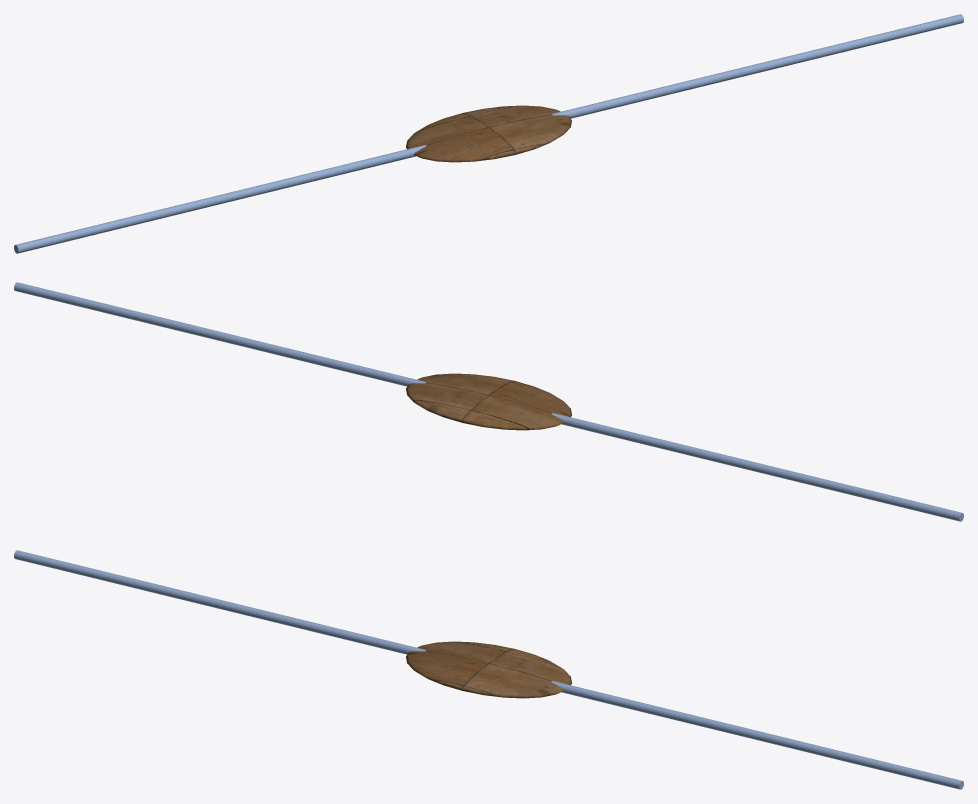
Rendered from funda.glb.
The picture shows the model from 3 angles, top to bottom: view 1: azimuth 30°, elevation 25°; view 2: azimuth 150°, elevation 25°; view 3: azimuth 330°, elevation 25°; orthographic projection.
Visible parts, largest first — view 1: Bolsa de couro, Correia, Correia.001; view 2: Bolsa de couro, Correia, Correia.001; view 3: Bolsa de couro, Correia.001, Correia.
Part boxes in pixels (bbox=[...]): Bolsa de couro: bbox=[406, 105, 571, 162]; Correia: bbox=[14, 145, 426, 253]; Correia.001: bbox=[551, 14, 963, 118]; Bolsa de couro: bbox=[406, 373, 571, 430]; Correia: bbox=[551, 413, 963, 521]; Correia.001: bbox=[14, 282, 426, 386]; Bolsa de couro: bbox=[406, 641, 571, 698]; Correia.001: bbox=[551, 681, 963, 789]; Correia: bbox=[14, 550, 426, 654].
Bounding box in the file's own units: 3 × 0.04 × 0.3.
2 materials, 2 textured.
